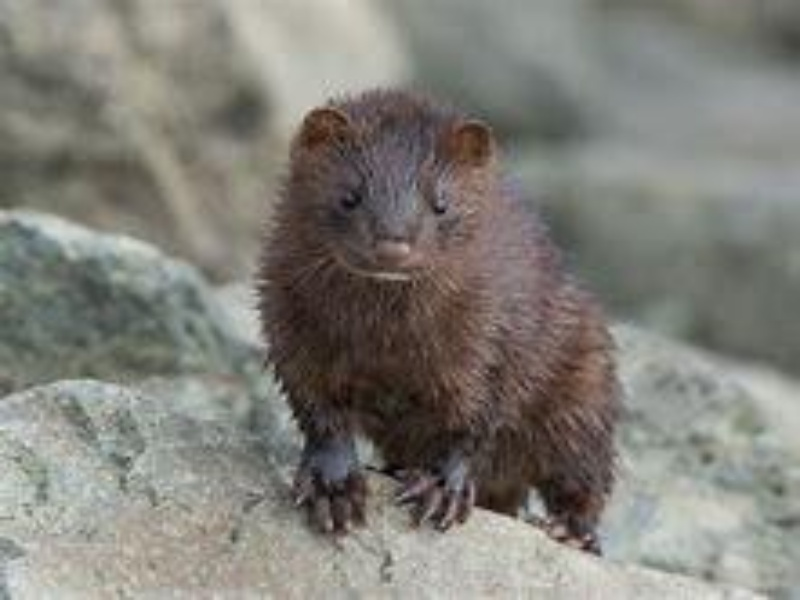minkish: (248, 91, 629, 559)
